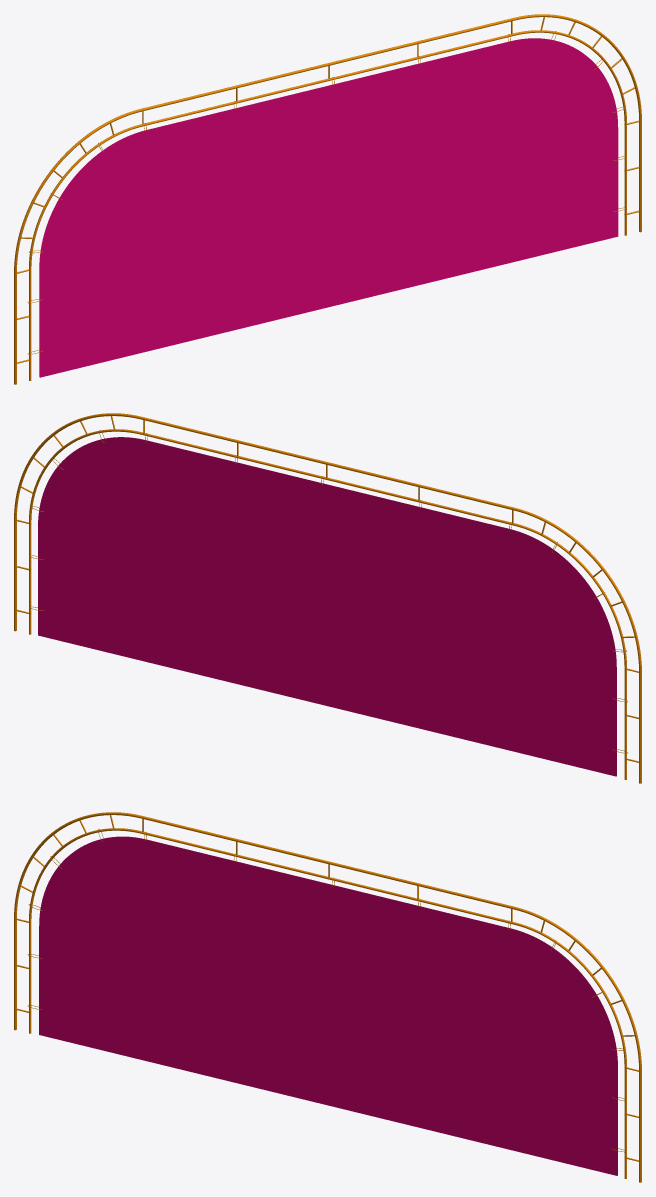
The model's file is Podium_Back_Lod0.fbx.
3 views of the same model, one above another, from view 1: azimuth 30°, elevation 25°; view 2: azimuth 150°, elevation 25°; view 3: azimuth 330°, elevation 25° (orthographic).
Parts seen in each view (by area): view 1: Podium_Back_Lod0; view 2: Podium_Back_Lod0; view 3: Podium_Back_Lod0.
Boxes of the visible parts, x1,y1,x2,y2 form: Podium_Back_Lod0: [14, 14, 641, 384]; Podium_Back_Lod0: [14, 413, 641, 783]; Podium_Back_Lod0: [14, 812, 641, 1182].
Bounding box in the file's own units: 1736 × 646 × 12.62.
